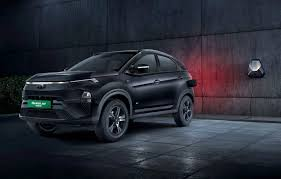Tata Nexon: (16, 48, 198, 144)
